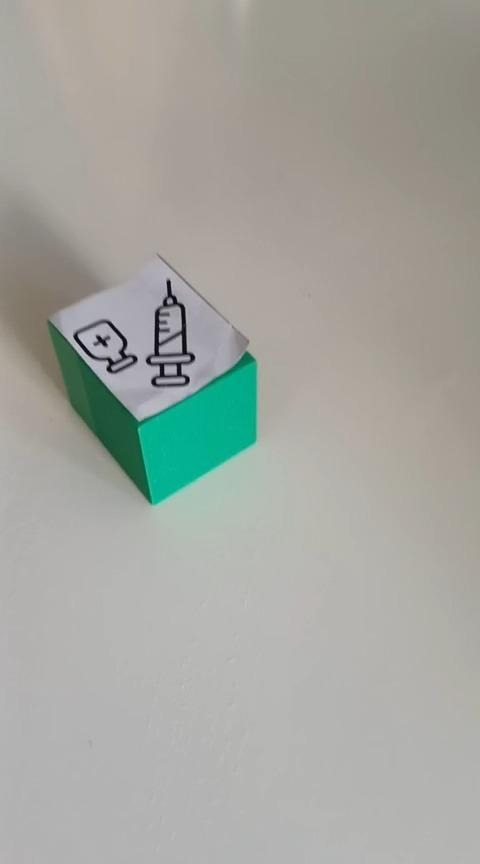antiseptic cream: (45, 250, 258, 505)
